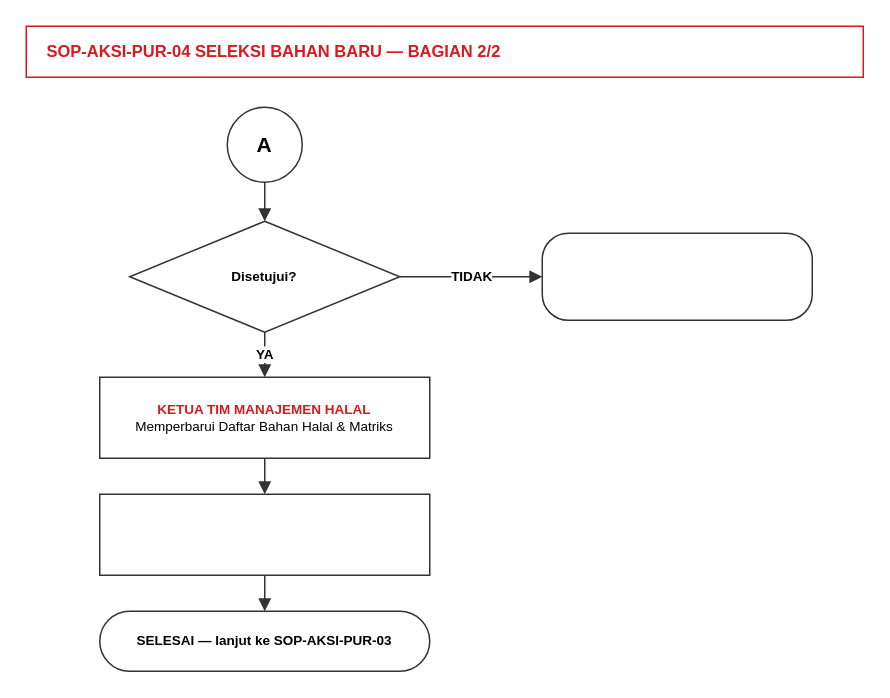
Image size: 890x698. Some labels were removed from this diagram. Here are the shapes that lost their labels. From the top down, the centre of each, then its label:
point (676, 276): Bahan tidak dapat digunakan
point (264, 534): PURCHASING Mengarsipkan FPBB & bukti persetujuan
